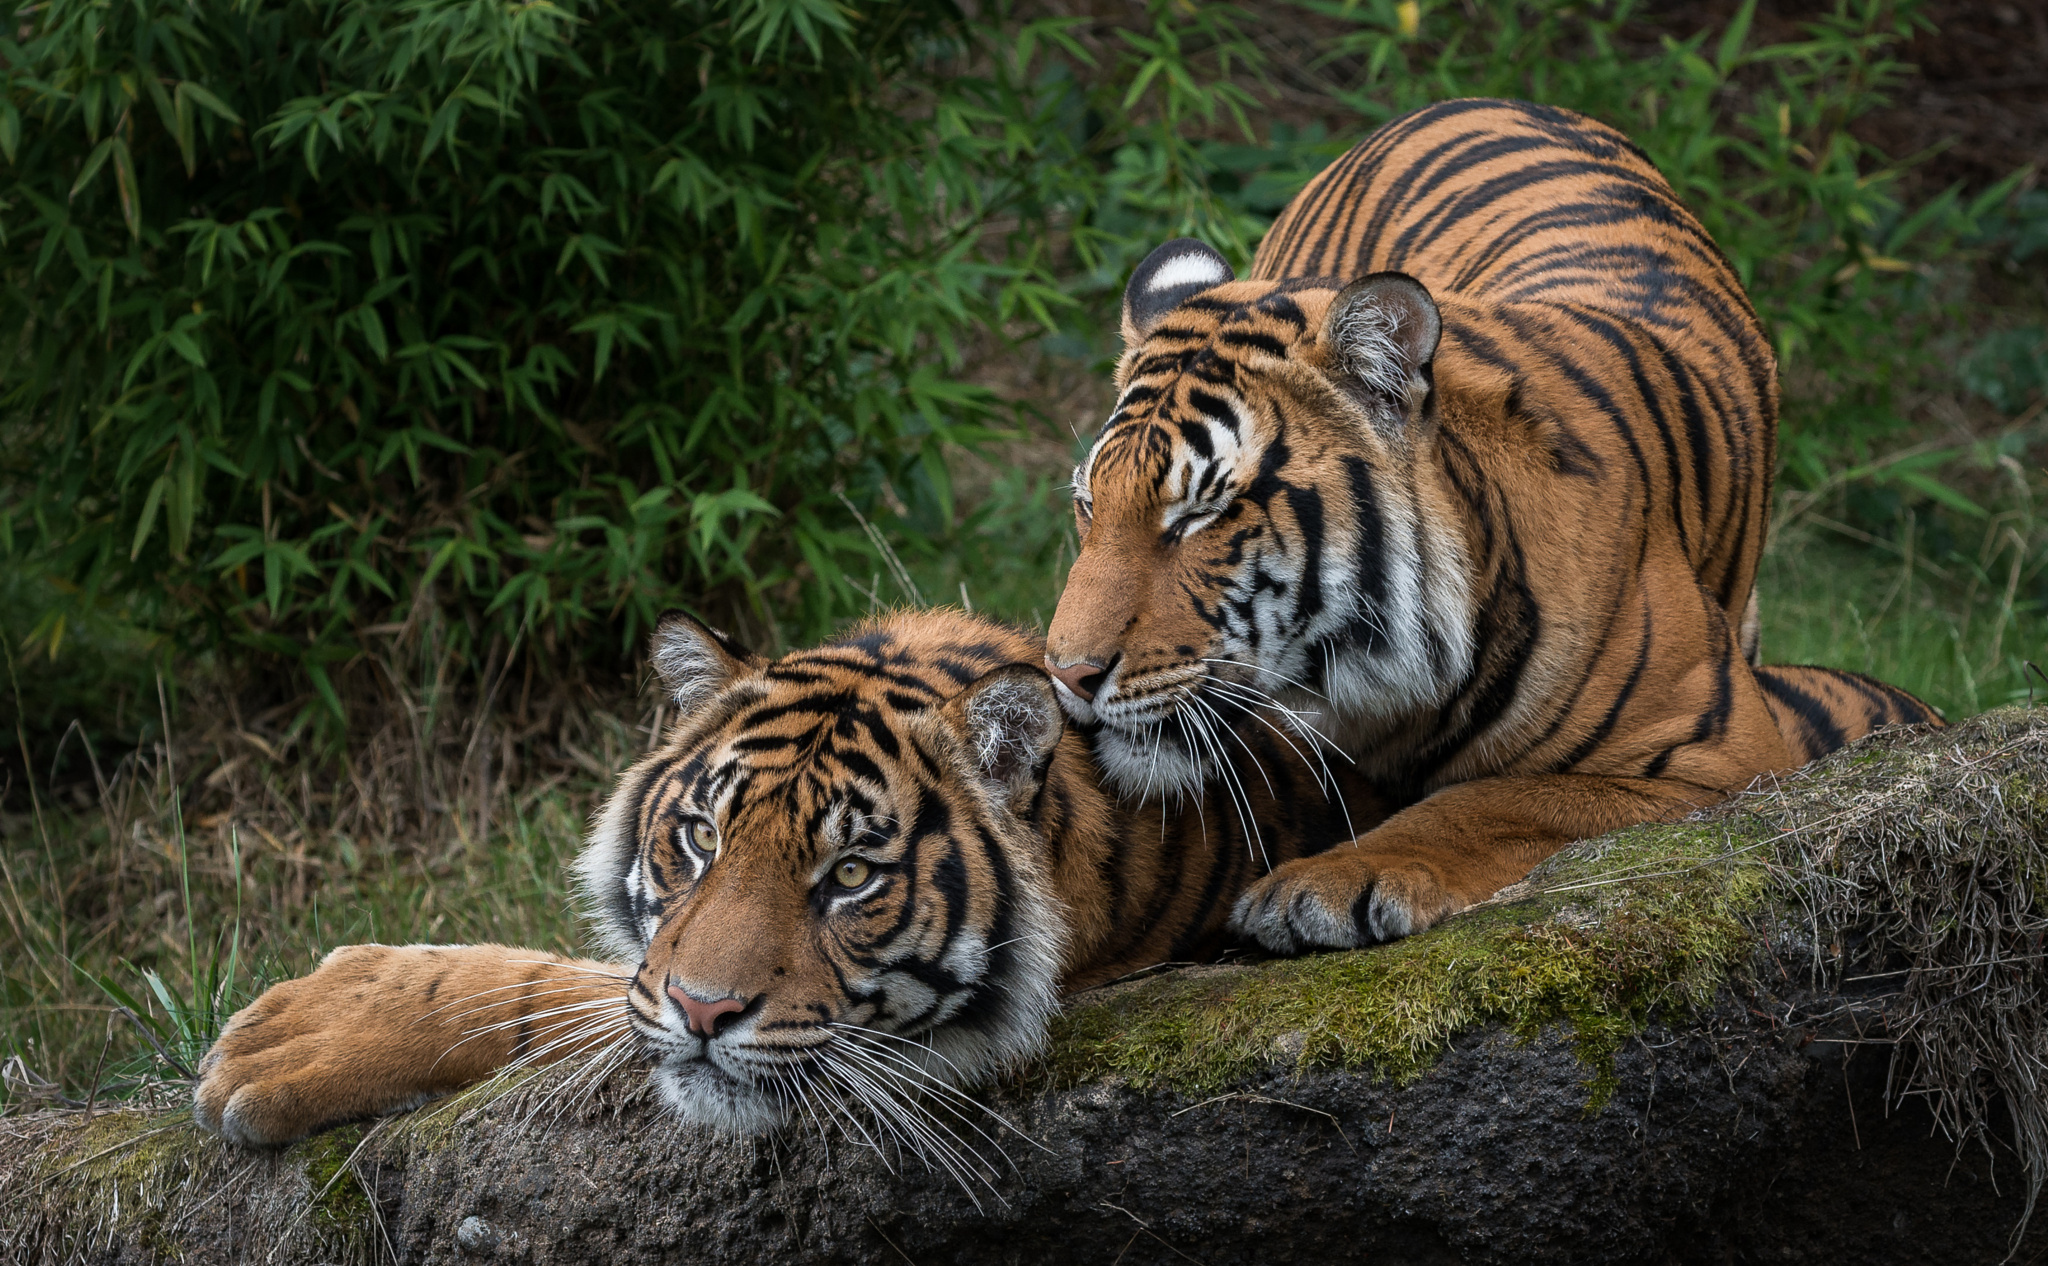tiger: (1061, 80, 1912, 986), (369, 602, 1229, 1079)
